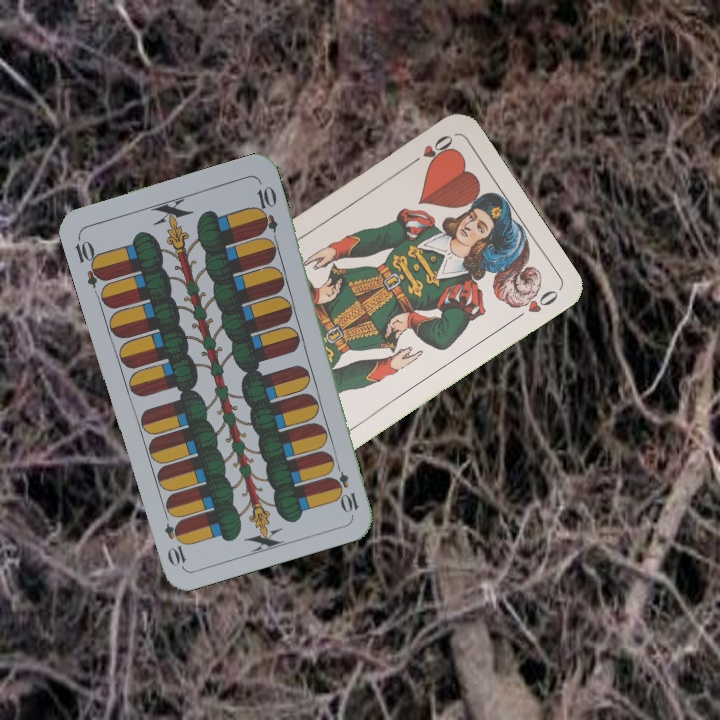E10: (71, 232, 108, 290), (329, 457, 361, 515)
HO: (404, 130, 456, 169)
